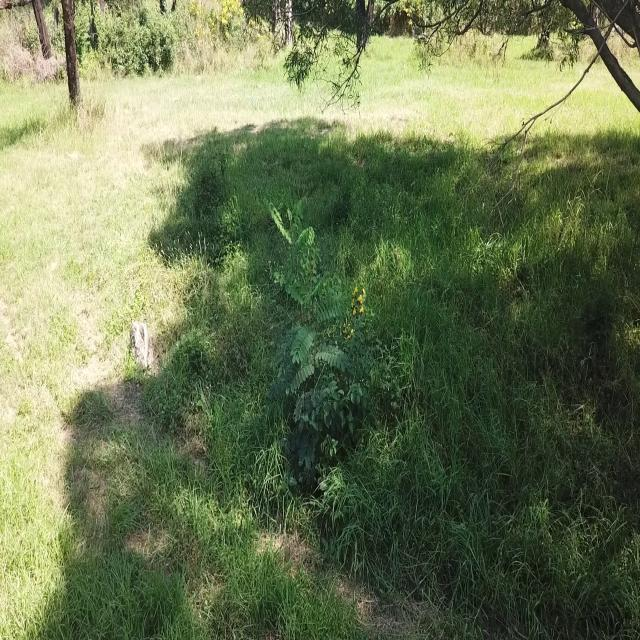Mysore-Thorn-Weed: (265, 200, 349, 450)
